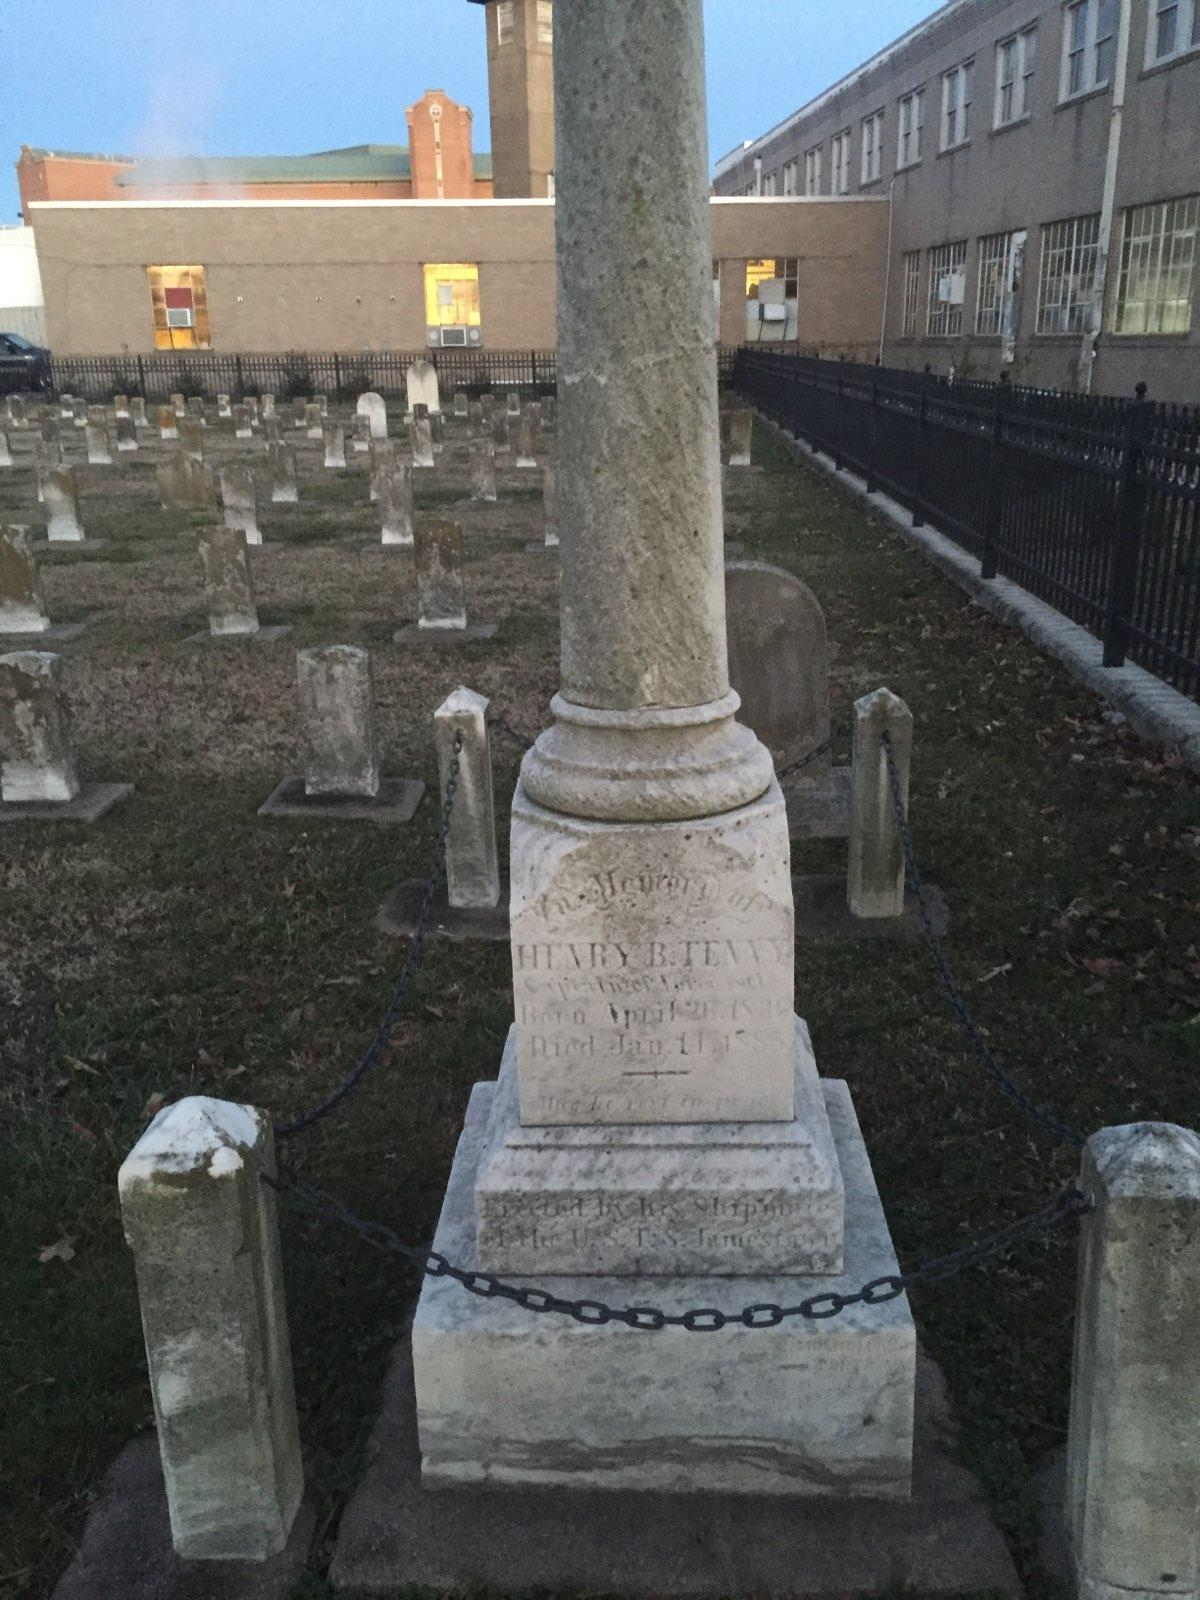obelisk: (320, 0, 1034, 1600)
